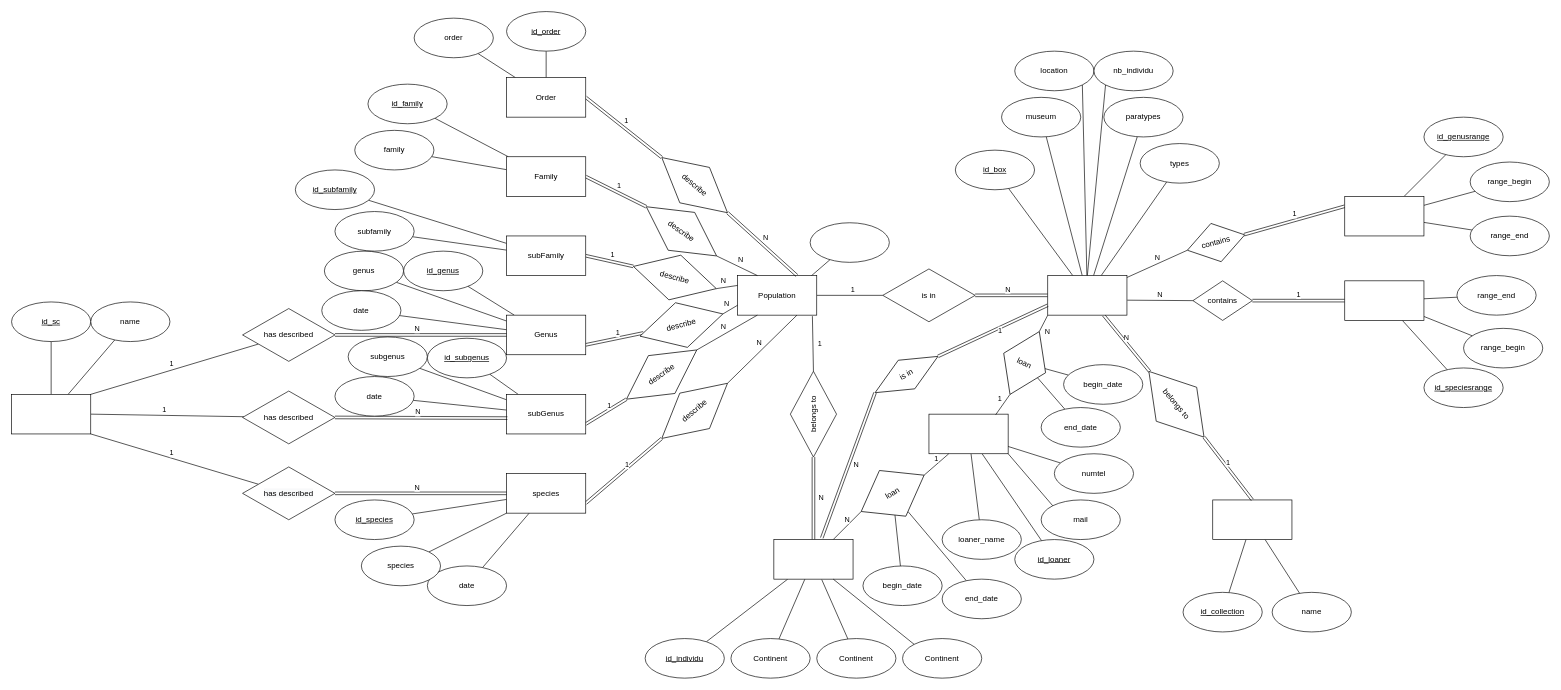
Image size: 1561x690. Some labels were removed from this diagram. Here are the shapes that lost their labels. From the top down, the centre of each, then its label:
At (1384,216): "GenusRange".
At (849,242): "id_population".
At (1087,295): "Box".
At (1384,300): "speciesRange".
At (51,414): "Scientific".
At (968,433): "loaner".
At (1252,519): "Collection".
At (813,559): "Individu".
